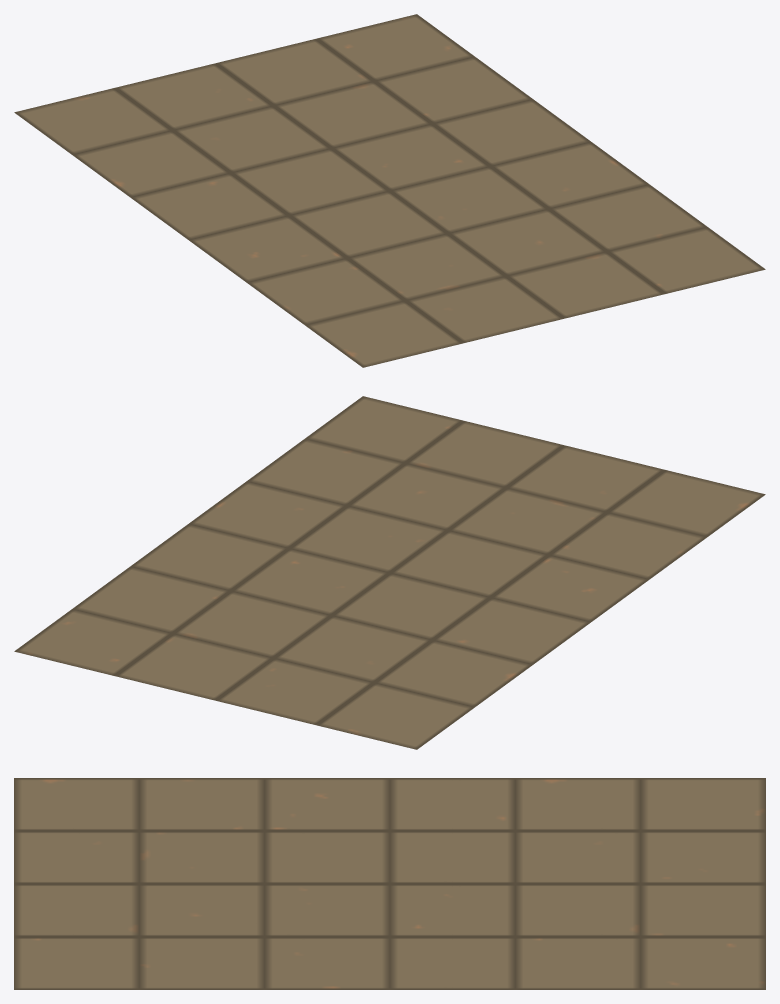
Rendered from SW_ENV_Floor_A_2x3m.fbx.
3 views of the same model, one above another, from view 1: azimuth 30°, elevation 25°; view 2: azimuth 150°, elevation 25°; view 3: azimuth 270°, elevation 25° (orthographic). The views are drawn at different scales.
Visible parts, largest first — view 1: SW_ENV_Floor_A_2x3m; view 2: SW_ENV_Floor_A_2x3m; view 3: SW_ENV_Floor_A_2x3m.
Part boxes in pixels (x1,y1,x2,y2): SW_ENV_Floor_A_2x3m: (14, 14, 765, 367); SW_ENV_Floor_A_2x3m: (14, 396, 765, 749); SW_ENV_Floor_A_2x3m: (14, 778, 765, 989).
Bounding box in the file's own units: 200 × 9.34e-05 × 300.
